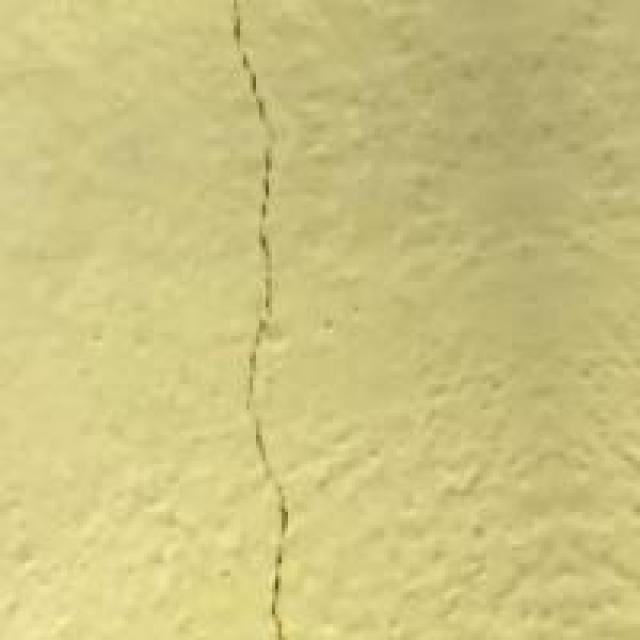Crack: (173, 0, 387, 637)
